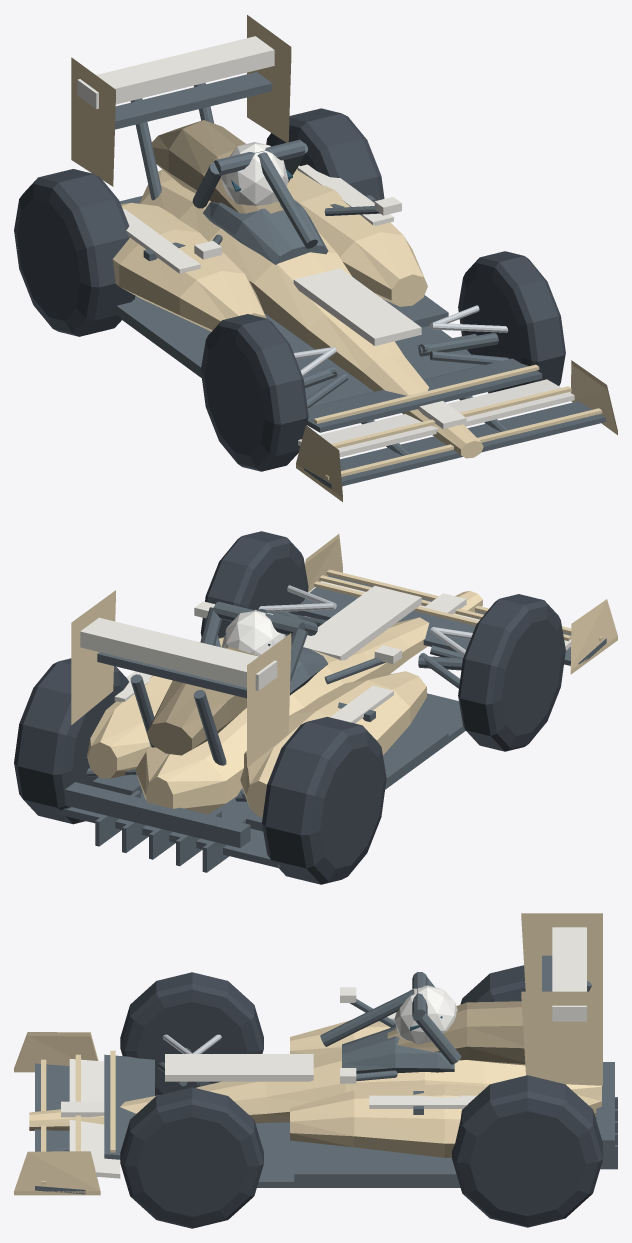
File: porsche_mobile.glb
The picture shows the model from 3 angles, top to bottom: view 1: azimuth 30°, elevation 25°; view 2: azimuth 150°, elevation 25°; view 3: azimuth 270°, elevation 25°; orthographic projection. The views are drawn at different scales.
Parts seen in each view (by area): view 1: BODY_paint, BODY_carbon, BODY_accent, RearLeftWheel_rubber, FrontLeftWheel_rubber, FrontRightWheel_rubber, RearRightWheel_rubber, BODY_paint_dark, BODY_helmet, BODY_metal; view 2: BODY_paint, BODY_carbon, RearLeftWheel_rubber, BODY_accent, FrontLeftWheel_rubber, RearRightWheel_rubber, FrontRightWheel_rubber, BODY_paint_dark, BODY_helmet, BODY_metal; view 3: BODY_paint, BODY_carbon, RearRightWheel_rubber, FrontRightWheel_rubber, BODY_accent, FrontLeftWheel_rubber, BODY_paint_dark, BODY_helmet, RearLeftWheel_rubber.
Part boxes in pixels (x1,y1,x2,y2): BODY_paint: [71, 15, 617, 501]; BODY_carbon: [115, 72, 605, 488]; BODY_accent: [77, 36, 574, 457]; RearLeftWheel_rubber: [14, 169, 135, 336]; FrontLeftWheel_rubber: [200, 314, 308, 471]; FrontRightWheel_rubber: [458, 251, 565, 393]; RearRightWheel_rubber: [266, 108, 384, 200]; BODY_paint_dark: [152, 120, 283, 213]; BODY_helmet: [221, 142, 288, 205]; BODY_metal: [293, 305, 508, 376]; BODY_paint: [71, 534, 617, 816]; BODY_carbon: [56, 575, 606, 872]; RearLeftWheel_rubber: [262, 716, 386, 884]; BODY_accent: [80, 581, 571, 723]; FrontLeftWheel_rubber: [458, 594, 565, 751]; RearRightWheel_rubber: [14, 658, 128, 824]; FrontRightWheel_rubber: [200, 531, 308, 637]; BODY_paint_dark: [146, 647, 257, 755]; BODY_helmet: [221, 610, 285, 656]; BODY_metal: [258, 585, 472, 656]; BODY_paint: [14, 913, 602, 1195]; BODY_carbon: [35, 955, 617, 1194]; RearRightWheel_rubber: [452, 1075, 602, 1227]; FrontRightWheel_rubber: [120, 1087, 263, 1228]; BODY_accent: [61, 927, 586, 1178]; FrontLeftWheel_rubber: [120, 972, 263, 1095]; BODY_paint_dark: [387, 1001, 525, 1065]; BODY_helmet: [394, 985, 457, 1044]; RearLeftWheel_rubber: [460, 965, 525, 1004].
Bounding box in the file's own units: 2.59 × 1.9 × 4.88.
